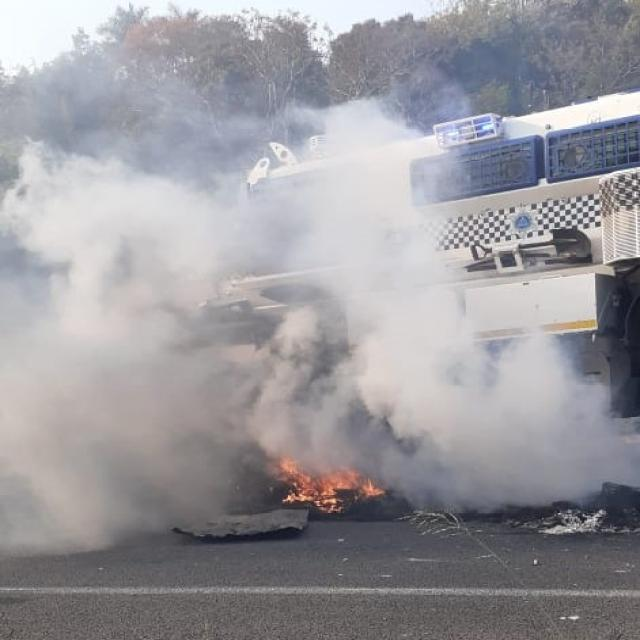Smoke: (17, 166, 205, 532), (275, 189, 479, 459), (498, 342, 630, 494)
